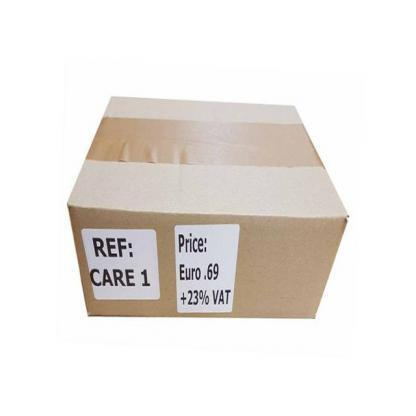package: (65, 96, 346, 318)
